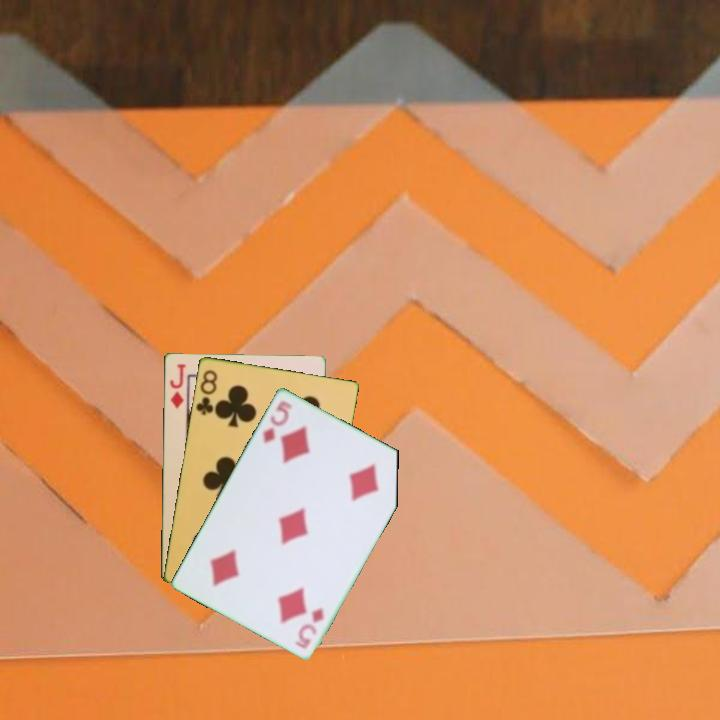5d: (259, 397, 295, 446), (295, 603, 327, 646)
8c: (192, 366, 220, 418)
Jd: (166, 360, 188, 411)
